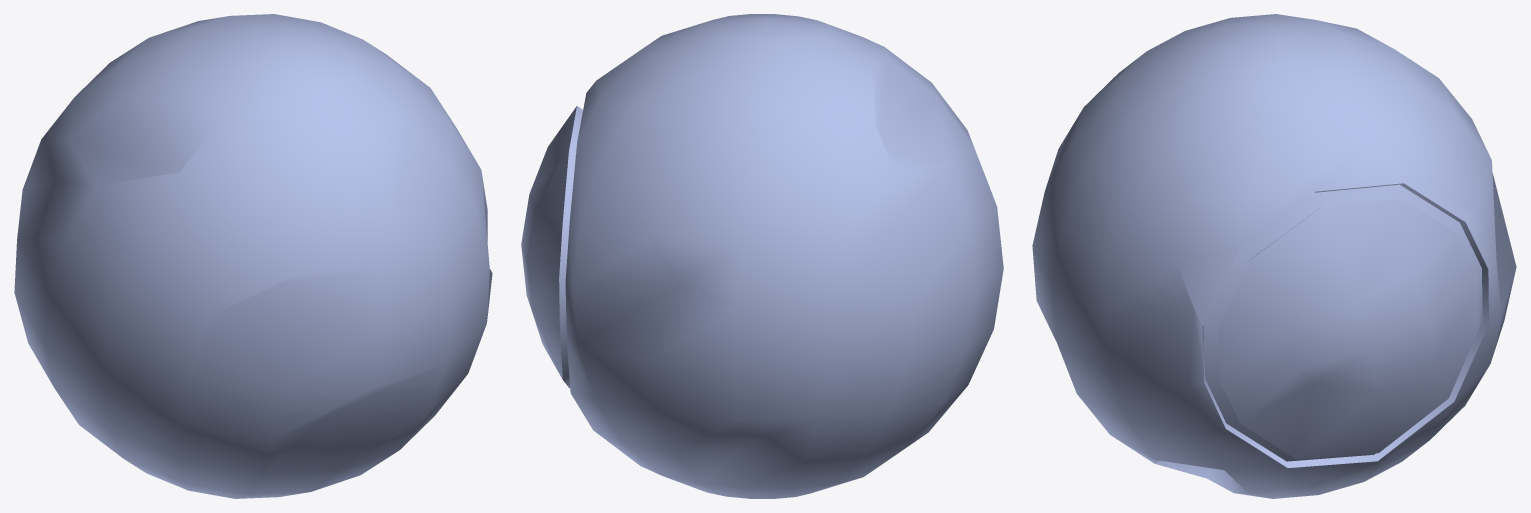
File: EsferaRota2.fbx
3 renders of one model, left to right at view 1: azimuth 30°, elevation 25°; view 2: azimuth 150°, elevation 25°; view 3: azimuth 270°, elevation 25°, orthographic.
Parts seen in each view (by area): view 1: Esfera_Vehiculo; view 2: Esfera_Vehiculo; view 3: Esfera_Vehiculo.
Boxes of the visible parts, x1,y1,x2,y2 form: Esfera_Vehiculo: [14, 14, 492, 498]; Esfera_Vehiculo: [521, 14, 1003, 498]; Esfera_Vehiculo: [1032, 14, 1516, 498].
Size of the model in its own units: 2.98 by 3.01 by 3.01.
